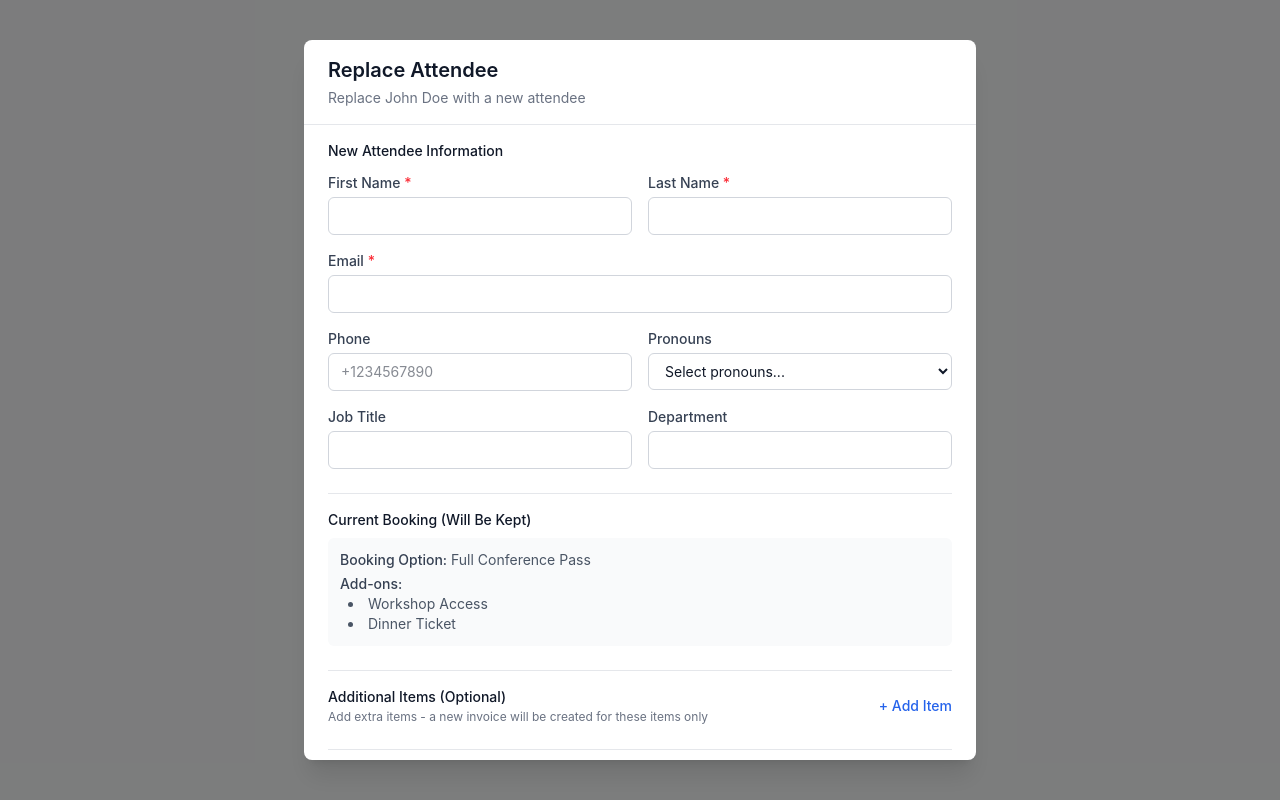
Test: ReplaceAttendeeModal › Email Validation › should show error for invalid email
The image size is (1280, 800).
Step 1. Type "invalid-email" into the field below "Email" → (640, 294), box [328,275,952,313]
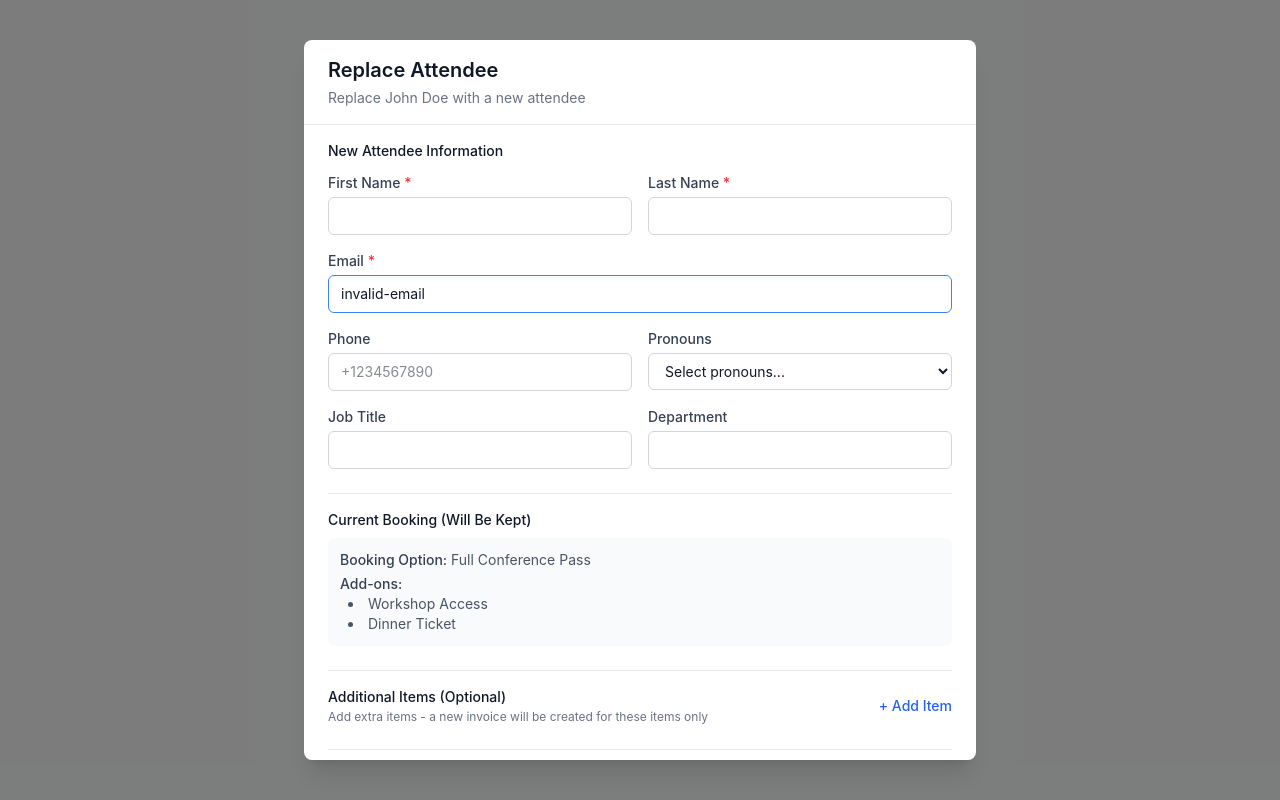
Step 2. Press Tab
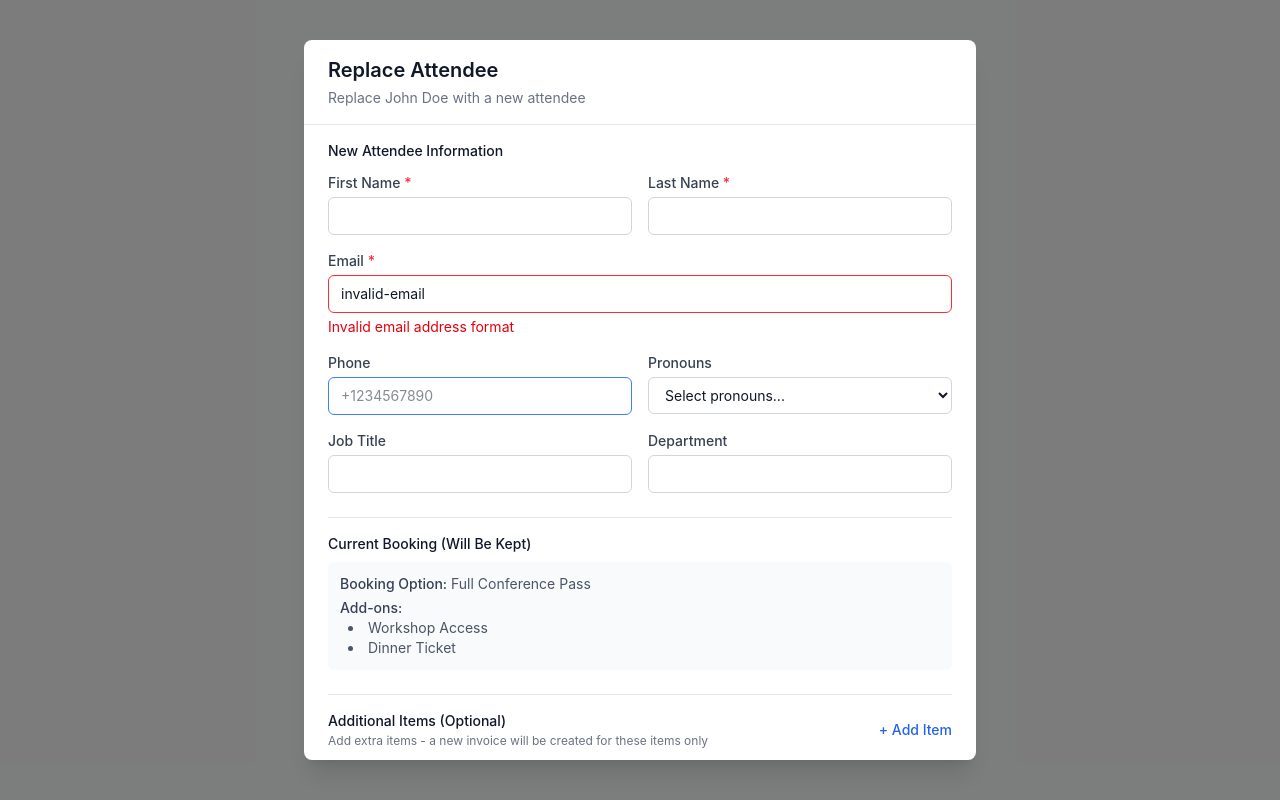
Expected: the text "Invalid email address format" is shown, [328,318,514,335]
